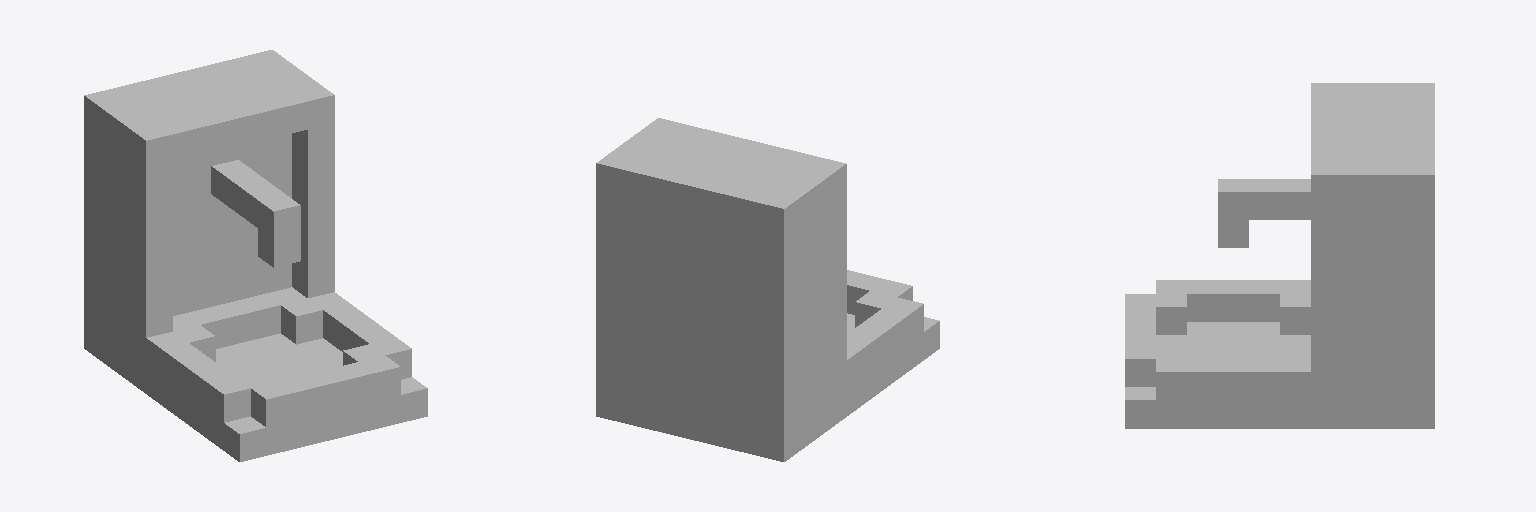
The model's file is coffee machine.obj.
3 views of the same model, side by side, from view 1: azimuth 30°, elevation 25°; view 2: azimuth 150°, elevation 25°; view 3: azimuth 270°, elevation 25° (orthographic).
Bounding box in the file's own units: 7 × 9 × 10.